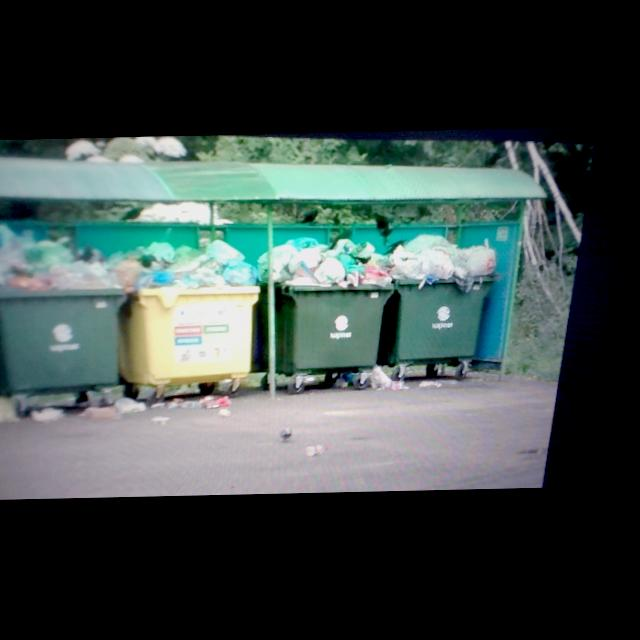Trash_Can_Full: (123, 239, 261, 384), (0, 235, 128, 389), (261, 236, 397, 375), (388, 233, 498, 366)
